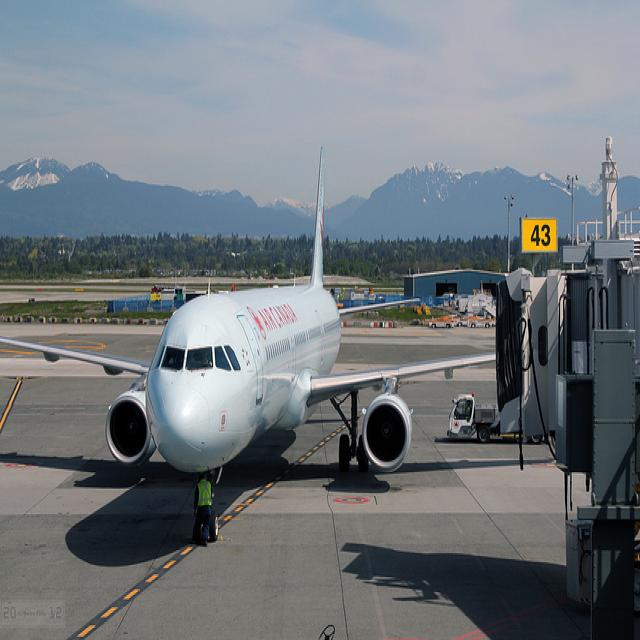Vehicle: (446, 394, 495, 444)
